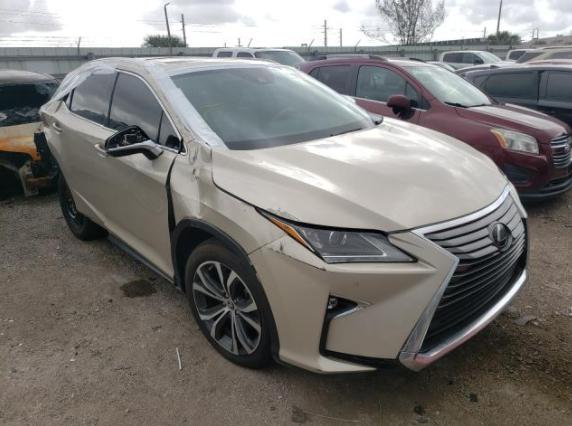Back-door: (48, 68, 116, 233)
Back-wheel: (57, 172, 111, 242)
Back-window: (65, 69, 116, 125)
Fender: (166, 138, 288, 287)
Front-bumper: (248, 230, 454, 375)
Front-door: (93, 68, 187, 279)
Front-wheel: (184, 237, 281, 371)
Front-window: (108, 73, 184, 152)
Grille: (397, 181, 530, 374)
Headlight: (256, 207, 418, 264)
Hood: (210, 115, 510, 235)
Mirror: (104, 125, 164, 162)
Quarter-panel: (34, 100, 61, 166)
Rocker-panel: (107, 231, 184, 294)
Roof: (123, 56, 288, 76)
Windshield: (161, 63, 382, 151)
